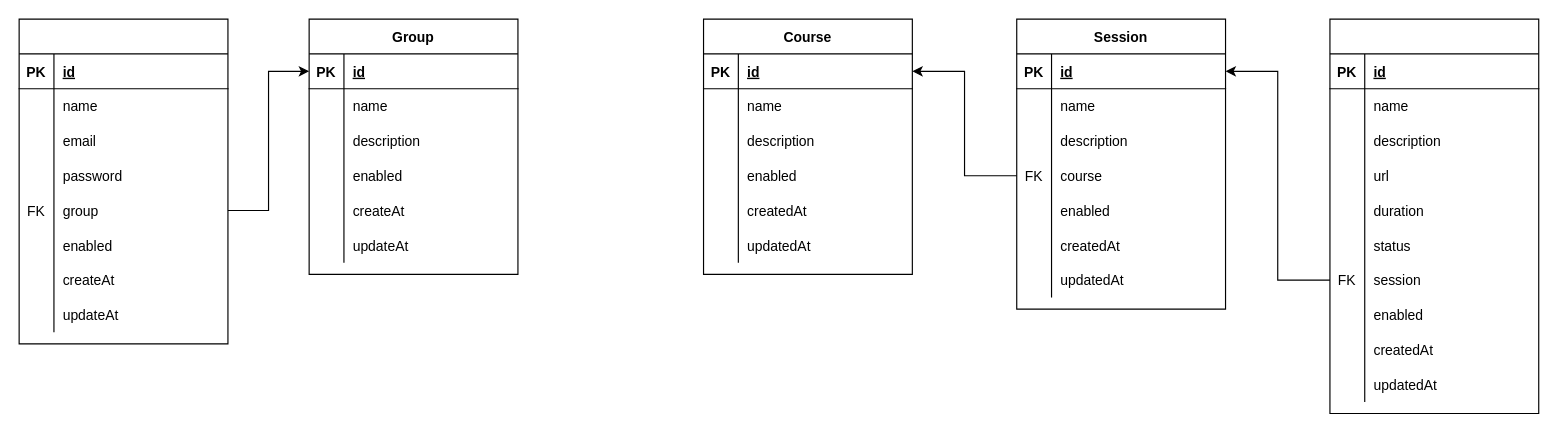
Some shapes in this 1558 by 433 pixel diagram are drawn without their labels. The shapes that lost their labels are listed below. From the top down, each one's box as (x1, y1, x2, y2) in pixels, then its label:
(18, 18, 228, 344): User
(1329, 18, 1539, 414): Lesson
